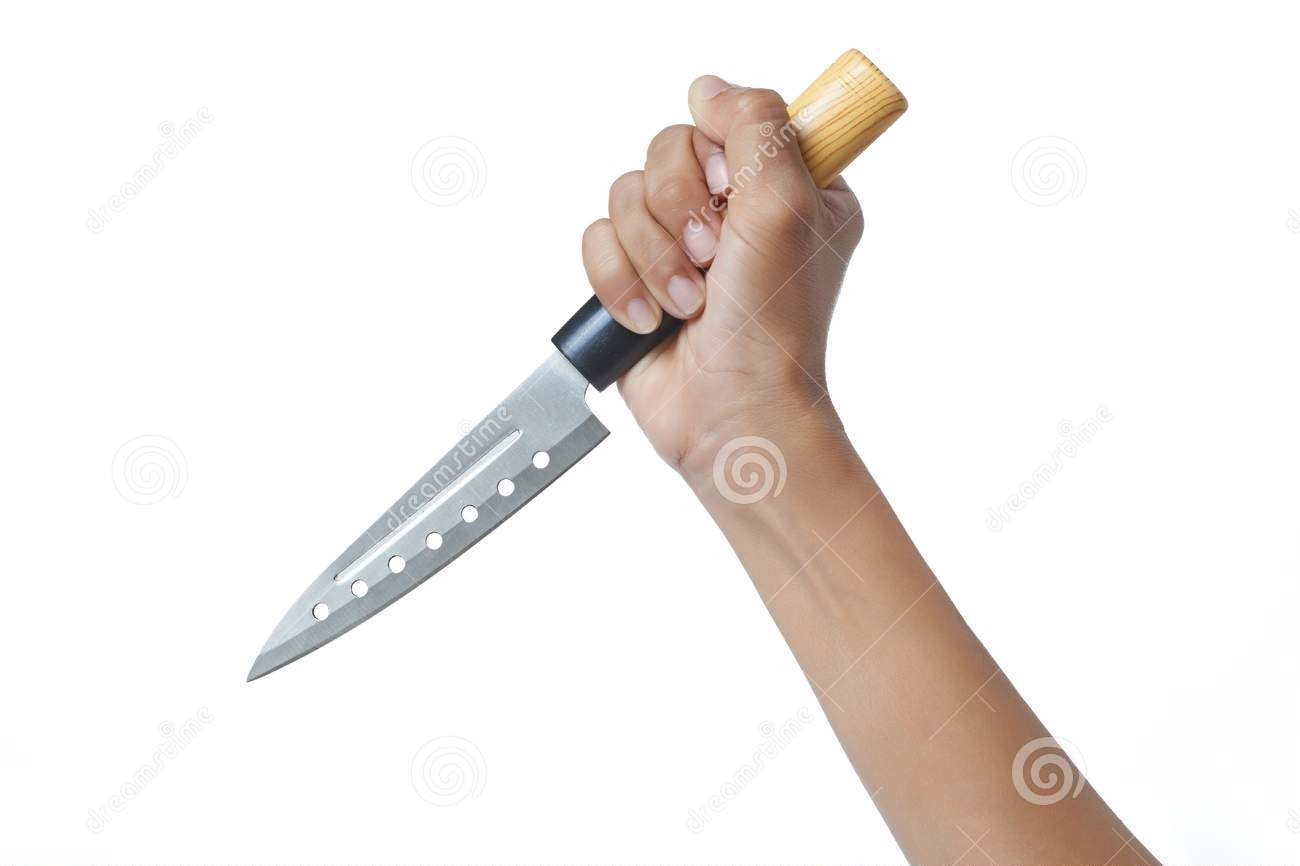knife: (235, 163, 751, 694)
